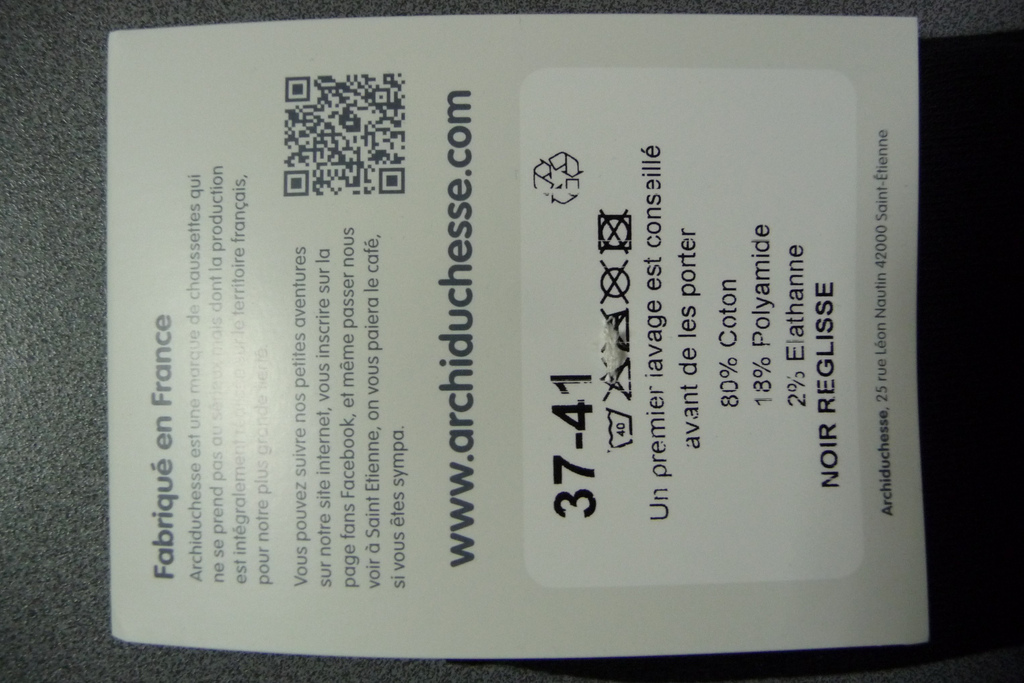QR-CODE: (283, 73, 405, 196)
